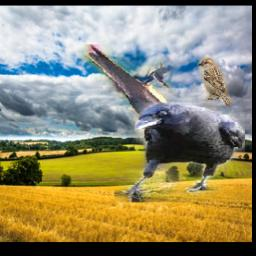Crow: (116, 103, 246, 202)
Sparrow: (198, 57, 233, 105)
Swallow: (78, 45, 189, 159)
